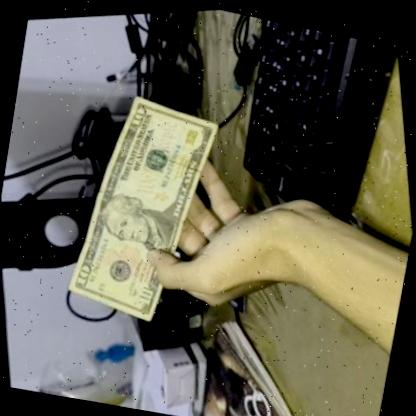ten-front: (10, 56, 275, 357)
